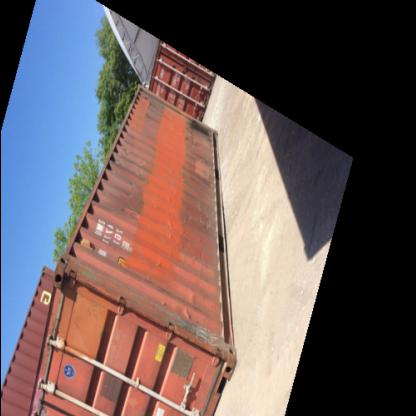Damage: (111, 170, 143, 221), (183, 120, 215, 154), (182, 202, 214, 234), (181, 285, 203, 329), (156, 192, 174, 245), (184, 160, 212, 192), (109, 134, 135, 168), (176, 246, 211, 268), (136, 278, 172, 297), (137, 98, 161, 125), (147, 256, 167, 272)
